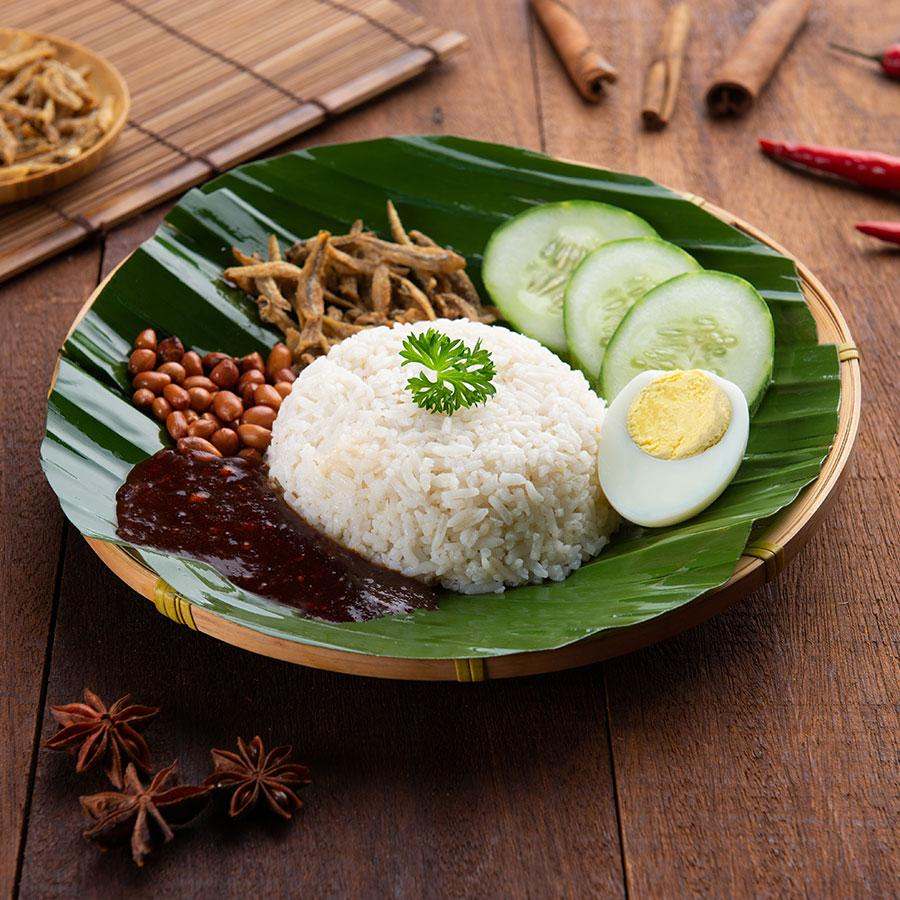Anchovies: (222, 201, 502, 377)
Boiled-Egg: (597, 371, 751, 530)
Cucumber: (483, 203, 774, 412)
Peanuts: (128, 329, 297, 460)
Rice: (273, 323, 624, 597)
Sambal: (117, 450, 442, 622)
